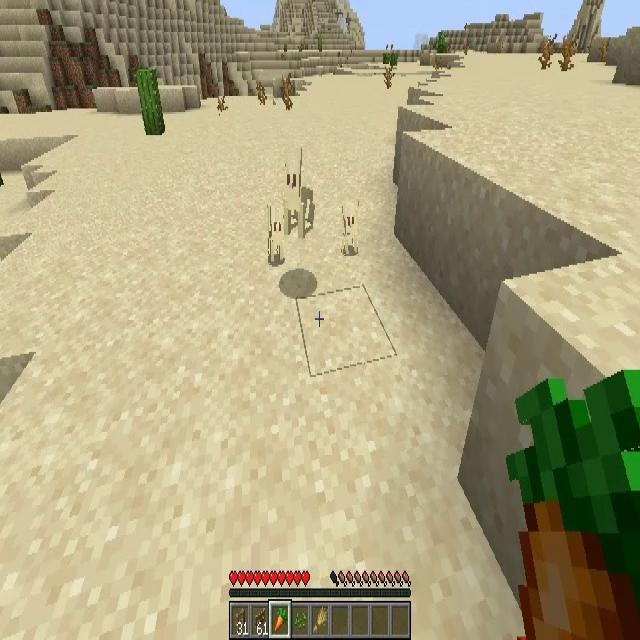rabbit: (279, 149, 313, 238), (268, 206, 284, 264), (342, 203, 358, 255)
